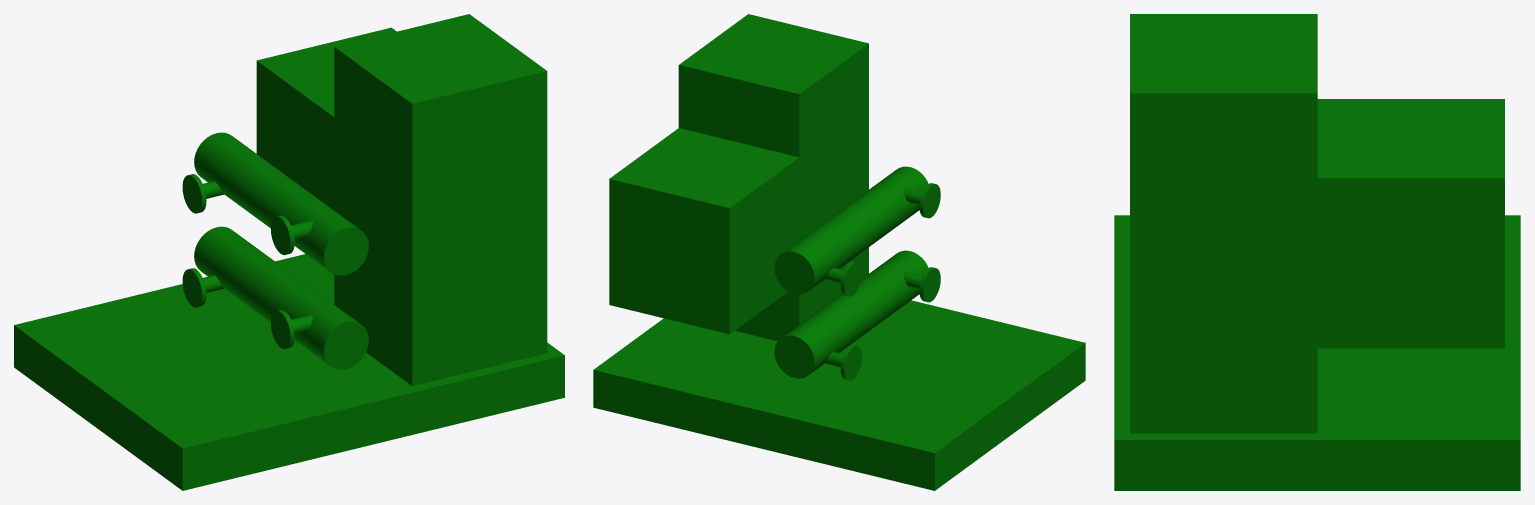
File: Image-1710907554429-2281289618000_53-XX50.fbx
The picture shows the model from 3 angles, left to right: view 1: azimuth 30°, elevation 25°; view 2: azimuth 150°, elevation 25°; view 3: azimuth 270°, elevation 25°; orthographic projection. The views are drawn at different scales.
Parts seen in each view (by area): view 1: BOX 2 of SUBEQUIPMENT /53-XX50-SKID, BOX 1 of SUBEQUIPMENT /53-XX50-SKID, BOX 3 of SUBEQUIPMENT /53-XX50-SKID, CYLINDER 1 of SUBEQUIPMENT /53-VW50A, CYLINDER 1 of SUBEQUIPMENT /53-VW50B, NOZZLE 2 of SUBEQUIPMENT /53-VW50A, NOZZLE 2 of SUBEQUIPMENT /53-VW50B, NOZZLE 1 of SUBEQUIPMENT /53-VW50A, NOZZLE 1 of SUBEQUIPMENT /53-VW50B; view 2: BOX 1 of SUBEQUIPMENT /53-XX50-SKID, BOX 3 of SUBEQUIPMENT /53-XX50-SKID, BOX 2 of SUBEQUIPMENT /53-XX50-SKID, CYLINDER 1 of SUBEQUIPMENT /53-VW50A, CYLINDER 1 of SUBEQUIPMENT /53-VW50B, NOZZLE 2 of SUBEQUIPMENT /53-VW50A, NOZZLE 2 of SUBEQUIPMENT /53-VW50B, NOZZLE 1 of SUBEQUIPMENT /53-VW50A, NOZZLE 1 of SUBEQUIPMENT /53-VW50B; view 3: BOX 2 of SUBEQUIPMENT /53-XX50-SKID, BOX 3 of SUBEQUIPMENT /53-XX50-SKID, BOX 1 of SUBEQUIPMENT /53-XX50-SKID.
Part boxes in pixels (<box>): BOX 2 of SUBEQUIPMENT /53-XX50-SKID: <box>334,14,547,386</box>; BOX 1 of SUBEQUIPMENT /53-XX50-SKID: <box>14,254,564,490</box>; BOX 3 of SUBEQUIPMENT /53-XX50-SKID: <box>256,27,396,210</box>; CYLINDER 1 of SUBEQUIPMENT /53-VW50A: <box>194,132,368,275</box>; CYLINDER 1 of SUBEQUIPMENT /53-VW50B: <box>194,226,368,369</box>; NOZZLE 2 of SUBEQUIPMENT /53-VW50A: <box>270,215,312,255</box>; NOZZLE 2 of SUBEQUIPMENT /53-VW50B: <box>270,309,312,349</box>; NOZZLE 1 of SUBEQUIPMENT /53-VW50A: <box>182,174,223,213</box>; NOZZLE 1 of SUBEQUIPMENT /53-VW50B: <box>182,268,223,307</box>; BOX 1 of SUBEQUIPMENT /53-XX50-SKID: <box>593,300,1085,490</box>; BOX 3 of SUBEQUIPMENT /53-XX50-SKID: <box>609,128,799,334</box>; BOX 2 of SUBEQUIPMENT /53-XX50-SKID: <box>678,14,868,341</box>; CYLINDER 1 of SUBEQUIPMENT /53-VW50A: <box>774,166,928,294</box>; CYLINDER 1 of SUBEQUIPMENT /53-VW50B: <box>774,250,928,378</box>; NOZZLE 2 of SUBEQUIPMENT /53-VW50A: <box>903,183,940,218</box>; NOZZLE 2 of SUBEQUIPMENT /53-VW50B: <box>903,267,940,302</box>; NOZZLE 1 of SUBEQUIPMENT /53-VW50A: <box>825,261,861,296</box>; NOZZLE 1 of SUBEQUIPMENT /53-VW50B: <box>825,345,861,380</box>; BOX 2 of SUBEQUIPMENT /53-XX50-SKID: <box>1130,14,1317,433</box>; BOX 3 of SUBEQUIPMENT /53-XX50-SKID: <box>1317,99,1504,348</box>; BOX 1 of SUBEQUIPMENT /53-XX50-SKID: <box>1114,215,1520,490</box>.
Bounding box in the file's own units: 1.7 × 1.3 × 1.38.
